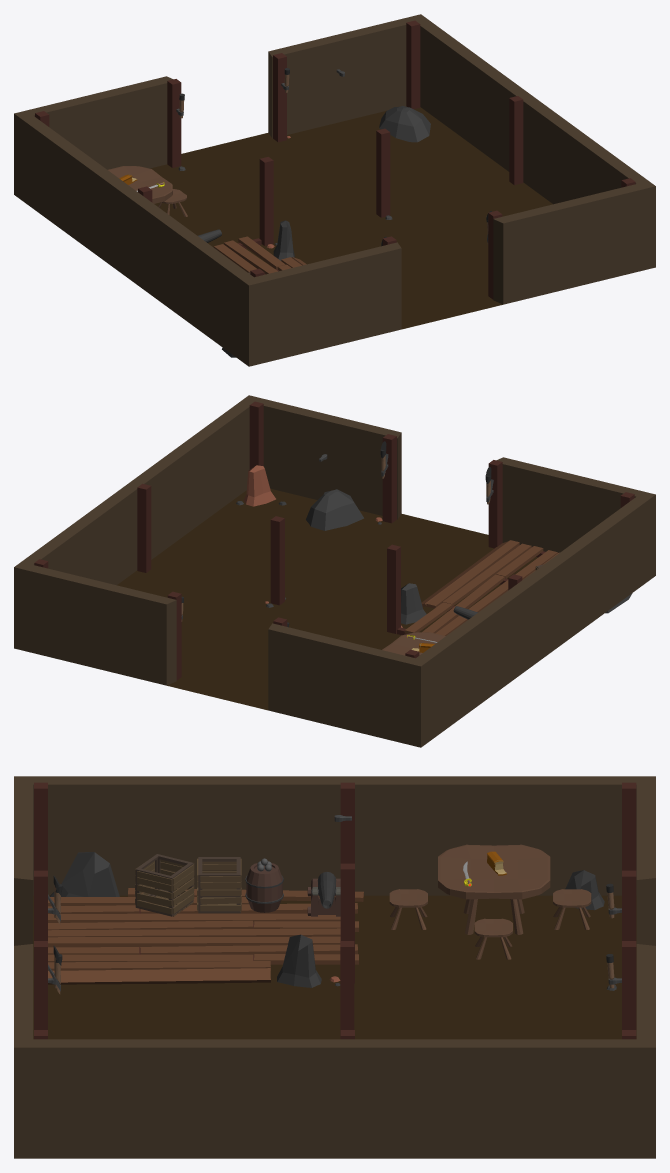
Rendered from RoomBen1.fbx.
3 views of the same model, one above another, from view 1: azimuth 30°, elevation 25°; view 2: azimuth 150°, elevation 25°; view 3: azimuth 270°, elevation 25° (orthographic). The views are drawn at different scales.
Parts seen in each view (by area): view 1: Room1, RoomFloor.002, FloorBoard, LargeRock1.004, Support.009, Support.011, Support.007, Support.010, Support.003, Support.002, Table, LargeRock1 (+1 smaller); view 2: Room1, RoomFloor.002, FloorBoard, LargeRock1.002, Support.009, Support.011, Support.010, Support.001, Support, Support.006, LargeRock1.001, LargeRock1 (+2 smaller); view 3: Room1, RoomFloor.002, FloorBoard, Table, Crate.001, Plank.024, LargeRock1.005, LargeRock1, Barrel, Support.011, Support.002, Support.005 (+12 smaller).
Part boxes in pixels (x1,y1,x2,y2): Room1: (14,14,655,366); RoomFloor.002: (150,106,552,329); FloorBoard: (213,236,306,274); LargeRock1.004: (379,106,430,142); Support.009: (509,96,523,185); Support.011: (376,128,390,217); Support.007: (406,20,420,109); Support.010: (259,157,273,245); Support.003: (167,79,181,167); Support.002: (273,53,286,142); Table: (108,166,172,203); LargeRock1: (273,220,294,260); Room1: (14,395,655,747); RoomFloor.002: (117,488,537,710); FloorBoard: (404,540,559,635); LargeRock1.002: (306,489,363,530); Support.009: (137,483,151,572); Support.011: (270,516,284,605); Support.010: (387,544,400,633); Support.001: (488,460,502,548); Support: (382,434,396,523); Support.006: (249,401,263,469); LargeRock1.001: (243,465,275,506); LargeRock1: (401,583,426,624); Room1: (14,776,655,1158); RoomFloor.002: (33,895,636,1039); FloorBoard: (48,888,363,984); Table: (438,844,550,934); Crate.001: (135,854,194,916); Plank.024: (197,858,241,912); LargeRock1.005: (50,852,119,896); LargeRock1: (277,934,321,987); Barrel: (245,863,283,912); Support.011: (340,941,354,1038); Support.002: (622,941,636,1029); Support.005: (622,782,636,870).
Size of the model in its own units: 796 by 320 by 796.
